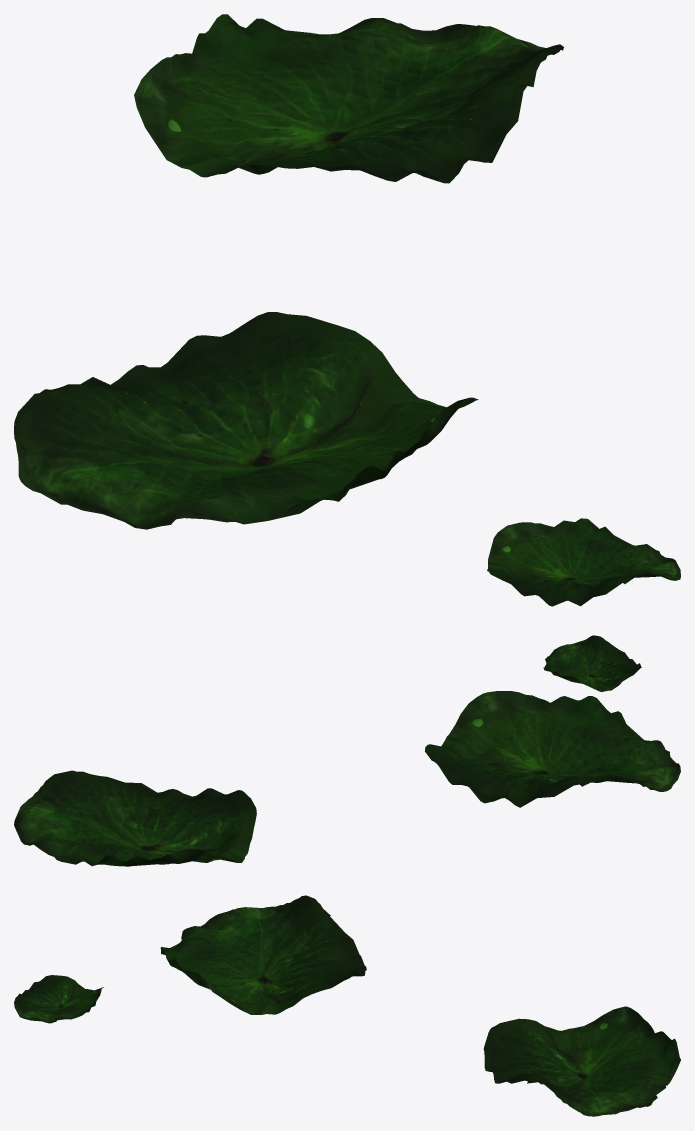
Rendered from lilypad.glb.
The picture shows the model from 3 angles, top to bottom: view 1: azimuth 30°, elevation 25°; view 2: azimuth 150°, elevation 25°; view 3: azimuth 270°, elevation 25°; orthographic projection. The views are drawn at different scales.
Visible parts, largest first — view 1: LOD0_LilyPad_01_Mat_0; view 2: LOD0_LilyPad_01_Mat_0; view 3: LOD0_LilyPad_01_Mat_0.
Part boxes in pixels (x1,y1,x2,y2): LOD0_LilyPad_01_Mat_0: (14, 14, 680, 606); LOD0_LilyPad_01_Mat_0: (14, 635, 680, 866); LOD0_LilyPad_01_Mat_0: (14, 895, 680, 1116).
Size of the model in its own units: 0.0357 by 0.00301 by 0.0482.
Materials: 1 (1 with a texture image).
